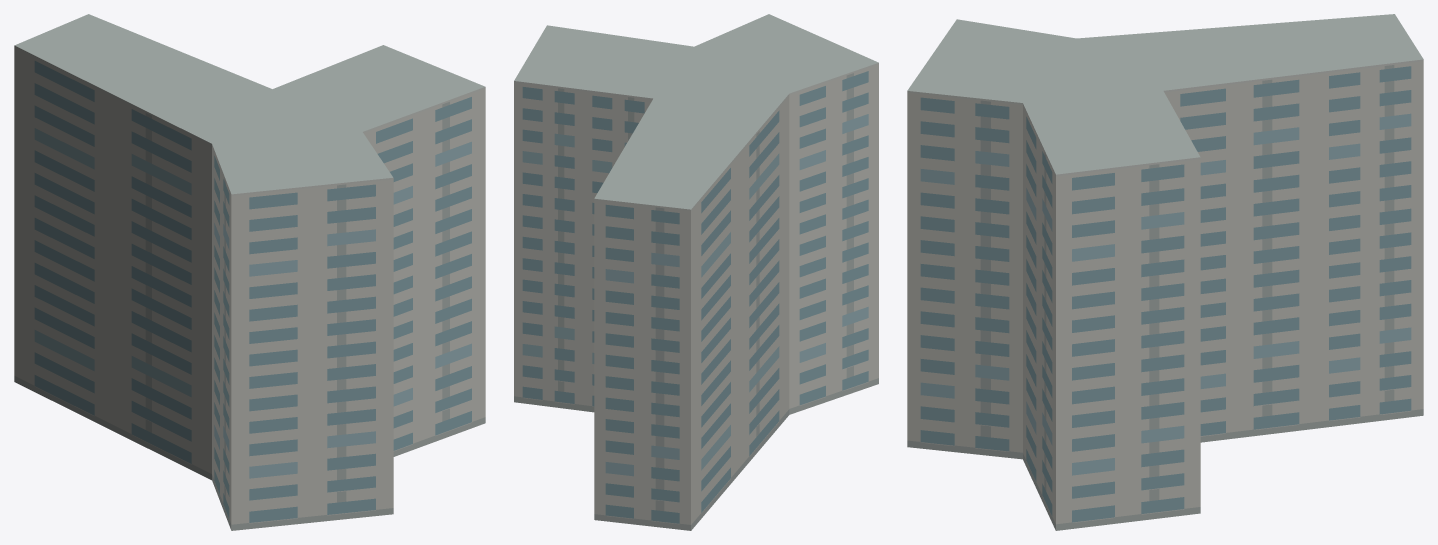
The model's file is residential-e776da2e-10d0-4328-ac5b-f323bbb774b6.glb.
3 renders of one model, left to right at view 1: azimuth 30°, elevation 25°; view 2: azimuth 150°, elevation 25°; view 3: azimuth 270°, elevation 25°, orthographic. The views are drawn at different scales.
Visible parts, largest first — view 1: residential-e776da2e-10d0-4328-ac5b-f323bbb774b6.tmp; view 2: residential-e776da2e-10d0-4328-ac5b-f323bbb774b6.tmp; view 3: residential-e776da2e-10d0-4328-ac5b-f323bbb774b6.tmp.
Part boxes in pixels (box(x1,y1,x2,y2)): residential-e776da2e-10d0-4328-ac5b-f323bbb774b6.tmp: box(14, 14, 485, 530); residential-e776da2e-10d0-4328-ac5b-f323bbb774b6.tmp: box(514, 14, 878, 530); residential-e776da2e-10d0-4328-ac5b-f323bbb774b6.tmp: box(907, 14, 1423, 530).
Bounding box in the file's own units: 43.53 × 45 × 59.13.
